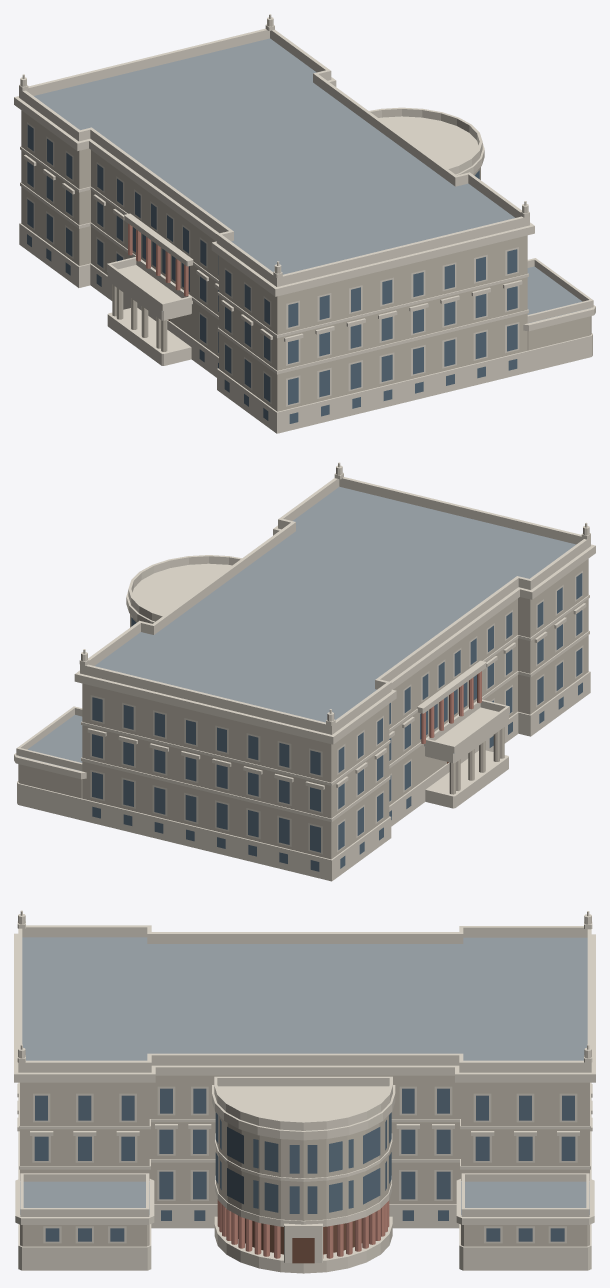
The model's file is pdx-city-hall.glb.
3 renders of one model, top to bottom at view 1: azimuth 30°, elevation 25°; view 2: azimuth 150°, elevation 25°; view 3: azimuth 270°, elevation 25°, orthographic. The views are drawn at different scales.
Parts seen in each view (by area): view 1: Portland City Hall; view 2: Portland City Hall; view 3: Portland City Hall.
Boxes of the visible parts, x1=… form: Portland City Hall: x1=14, y1=14, x2=595, y2=433; Portland City Hall: x1=14, y1=462, x2=595, y2=881; Portland City Hall: x1=14, y1=910, x2=595, y2=1273.
Size of the model in its own units: 47.35 by 22.5 by 62.8.
